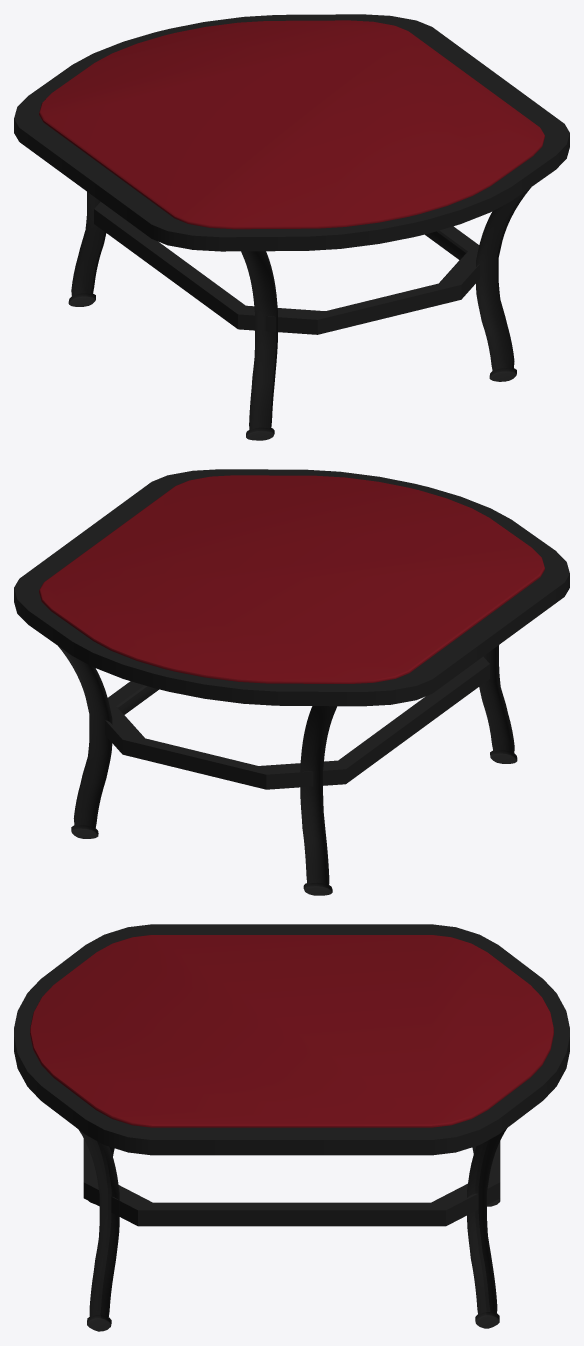
File: Mesa.fbx
The picture shows the model from 3 angles, top to bottom: view 1: azimuth 30°, elevation 25°; view 2: azimuth 150°, elevation 25°; view 3: azimuth 270°, elevation 25°; orthographic projection. The views are drawn at different scales.
Parts seen in each view (by area): view 1: Table; view 2: Table; view 3: Table.
Part boxes in pixels (x1,y1,x2,y2): Table: (14, 14, 569, 440); Table: (14, 469, 569, 895); Table: (14, 924, 569, 1331).
Bounding box in the file's own units: 140 × 70.18 × 152.
